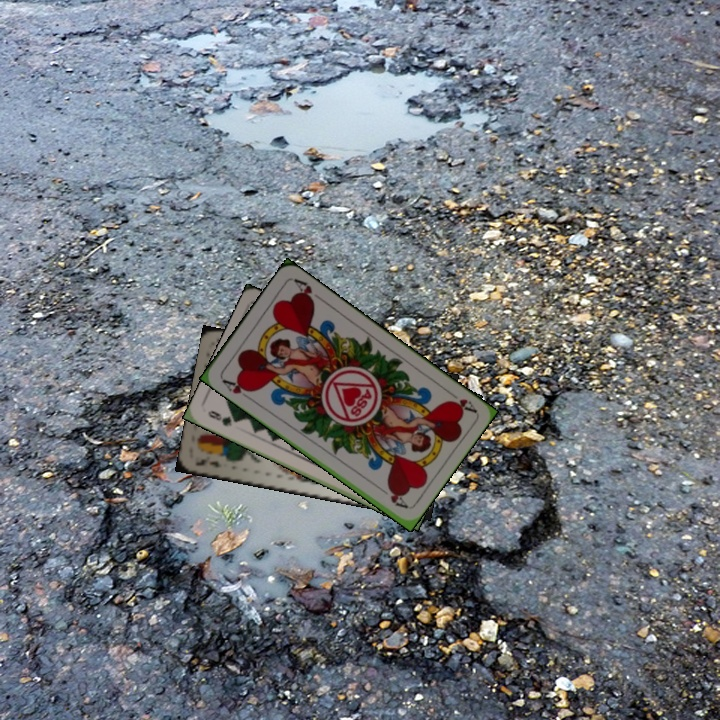EK: (191, 455, 224, 470)
G9: (204, 406, 242, 429)
HA: (442, 386, 478, 415), (218, 375, 255, 402)
